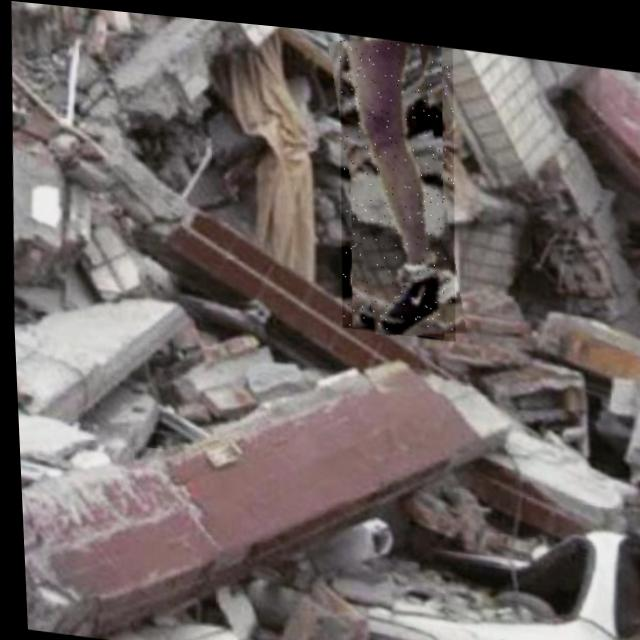Person in Rubble: (329, 25, 462, 334)
